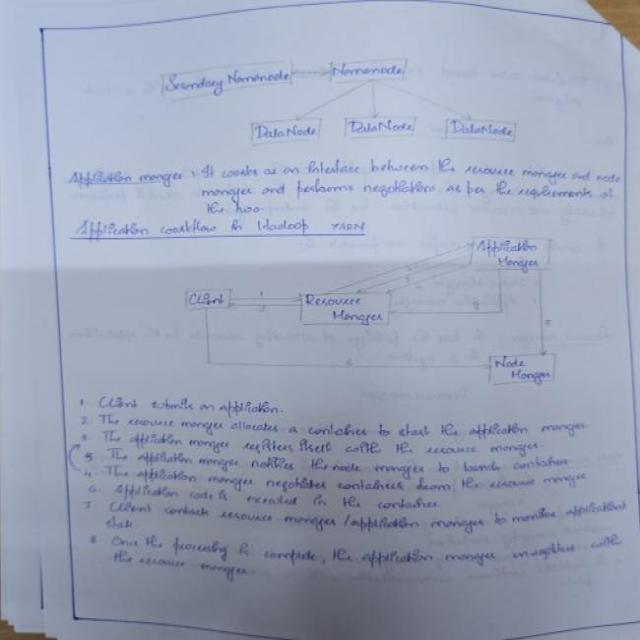Figure Detection - v3 Dataset Version2: (156, 227, 583, 390), (118, 42, 558, 154)
